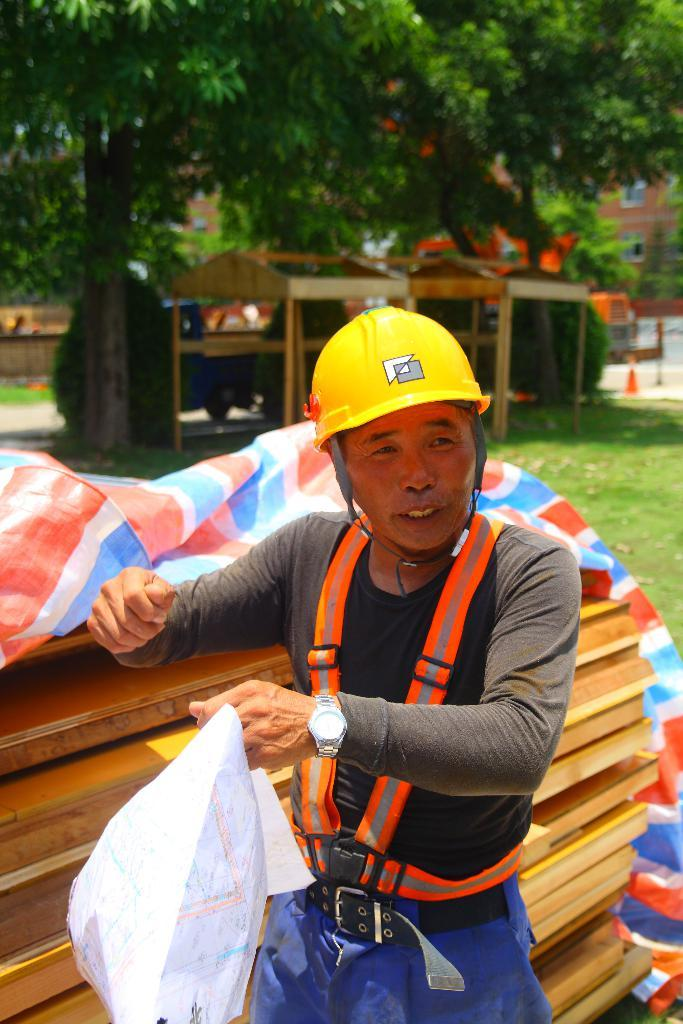helmet: (311, 305, 490, 547)
